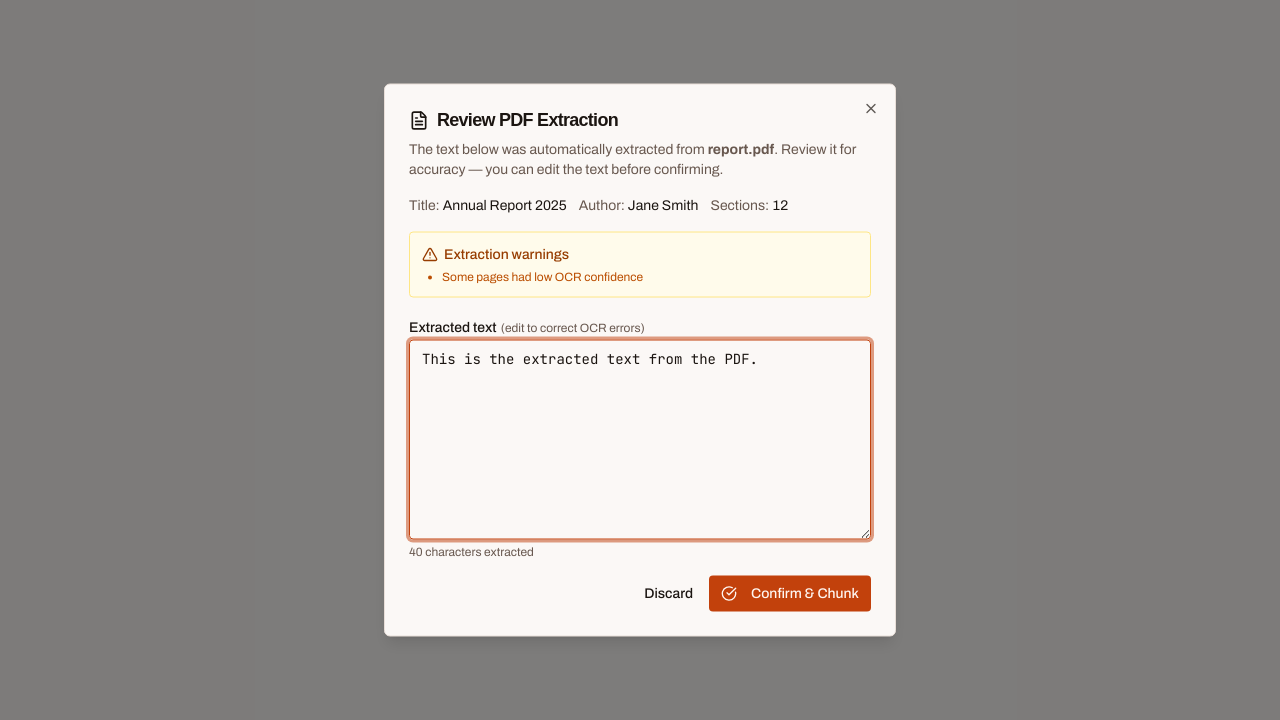
it: PdfPreviewModal › shows error message when fetch throws a network error
Step 1. Click the button "Confirm & Chunk" → (790, 594), box [709, 576, 871, 612]
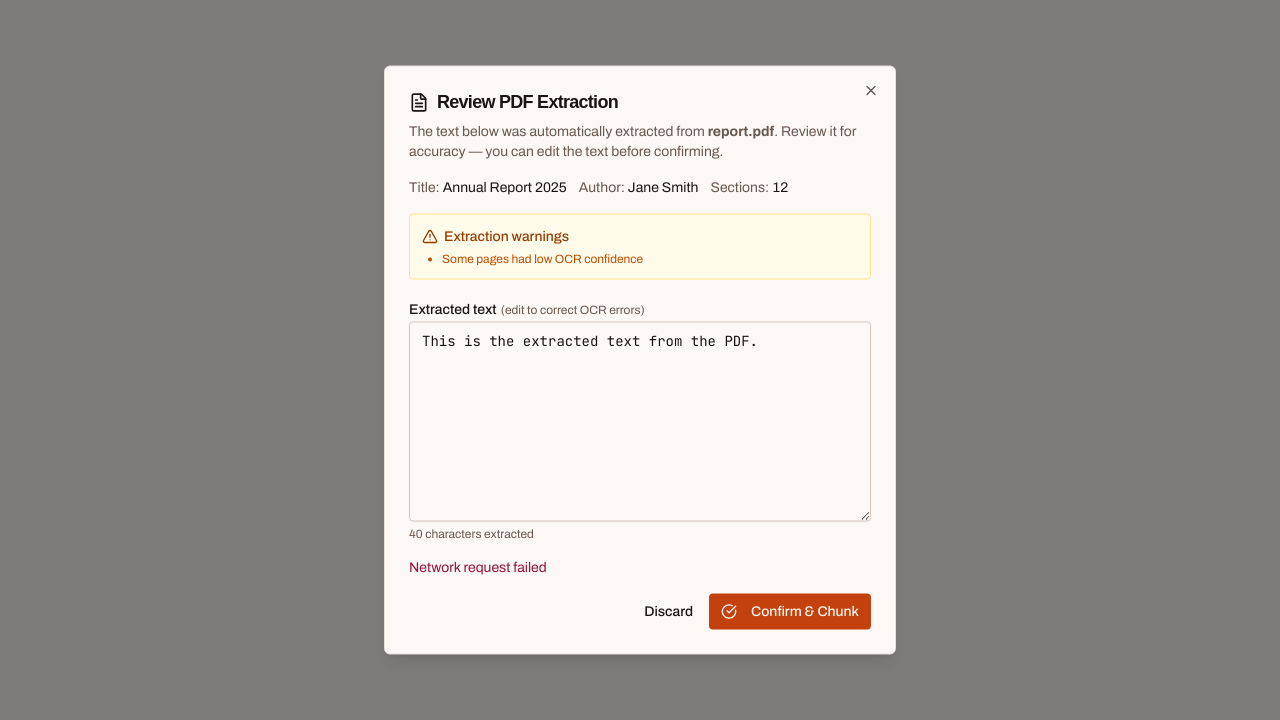
Result: the text "Network request failed" is shown at [409, 560, 547, 574]
